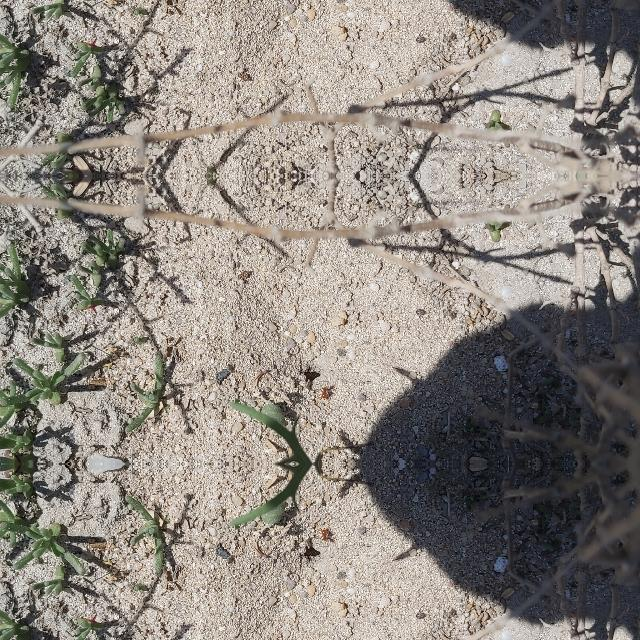Cataglyphis: (319, 384, 339, 398), (319, 528, 339, 542)
